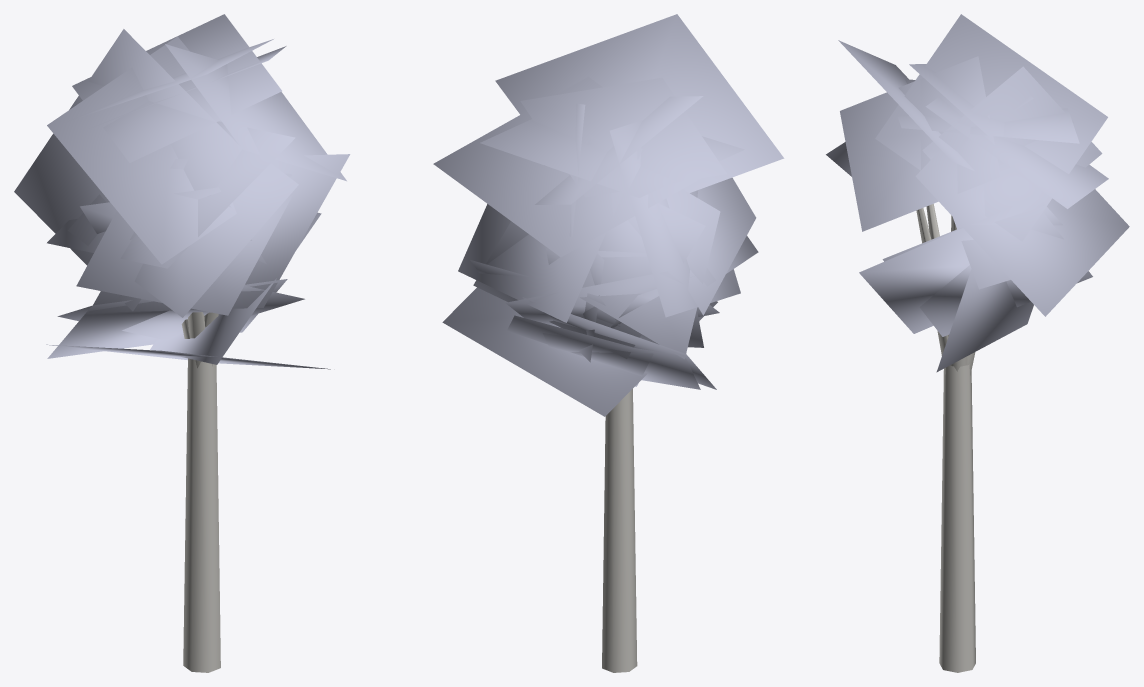
Rendered from birch3.glb.
3 views of the same model, side by side, from view 1: azimuth 30°, elevation 25°; view 2: azimuth 150°, elevation 25°; view 3: azimuth 270°, elevation 25° (orthographic). The views are drawn at different scales.
Parts seen in each view (by area): view 1: leaves, bark; view 2: leaves, bark; view 3: leaves, bark.
Part boxes in pixels (x1,y1,x2,y2): leaves: (14,14,350,369); bark: (181,312,220,672); leaves: (433,14,784,416); bark: (602,389,637,672); leaves: (826,14,1129,372); bark: (916,204,975,672).
Bounding box in the file's own units: 6.8 × 14.28 × 6.54.
